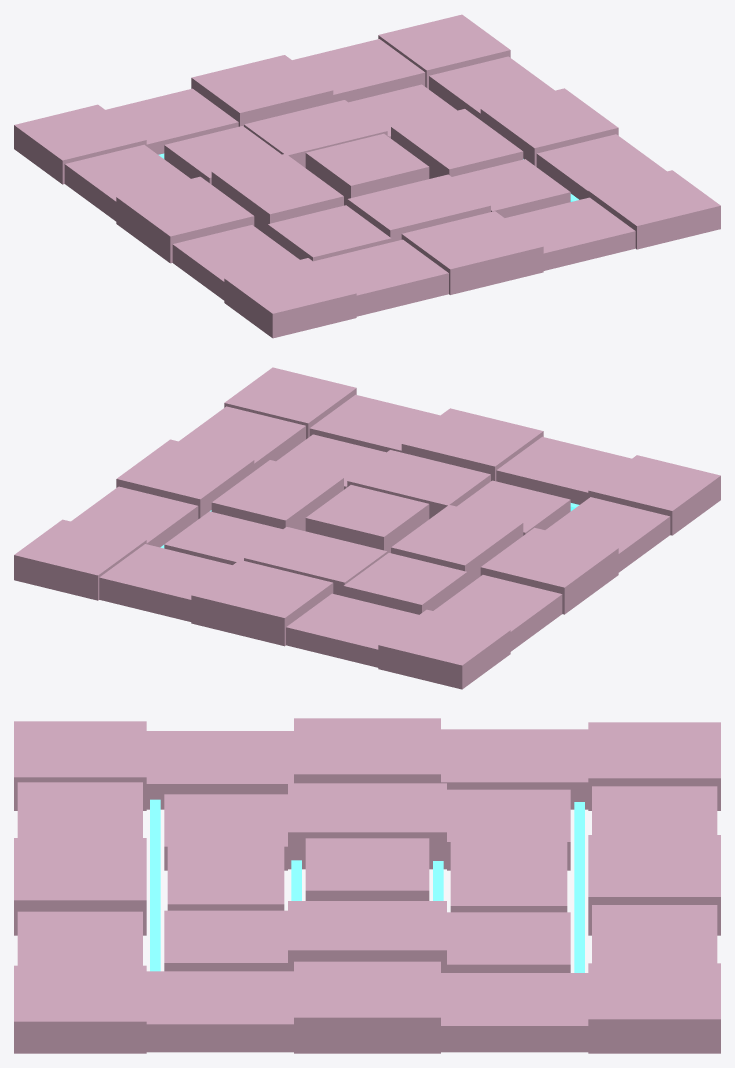
The model's file is fx_pet_tremor_ripple.glb.
The picture shows the model from 3 angles, top to bottom: view 1: azimuth 30°, elevation 25°; view 2: azimuth 150°, elevation 25°; view 3: azimuth 270°, elevation 25°; orthographic projection. The views are drawn at different scales.
Parts seen in each view (by area): view 1: ripple_outer_8, ripple_outer_2, ripple_outer_6, ripple_outer_4, ripple_outer_10, ripple_outer_1, ripple_inner_3, ripple_outer_14, ripple_inner_7, ripple_outer_12, ripple_outer_3, ripple_inner_1 (+13 smaller); view 2: ripple_outer_10, ripple_outer_12, ripple_outer_6, ripple_outer_16, ripple_outer_9, ripple_outer_14, ripple_outer_8, ripple_inner_7, ripple_outer_11, ripple_inner_3, ripple_outer_2, ripple_block_center (+13 smaller); view 3: ripple_outer_14, ripple_outer_13, ripple_outer_16, ripple_outer_15, ripple_outer_4, ripple_outer_2, ripple_inner_3, ripple_inner_7, ripple_outer_6, ripple_outer_7, ripple_outer_10, ripple_outer_5 (+15 smaller).
Boxes of the visible parts, <box> form: ripple_outer_8: <box>224,258,356,338</box>; ripple_outer_2: <box>401,211,543,294</box>; ripple_outer_6: <box>116,176,254,263</box>; ripple_outer_4: <box>588,170,720,249</box>; ripple_outer_10: <box>191,55,333,126</box>; ripple_outer_1: <box>313,239,448,316</box>; ripple_inner_3: <box>211,153,343,235</box>; ripple_outer_14: <box>480,88,618,166</box>; ripple_inner_7: <box>391,109,523,178</box>; ripple_outer_12: <box>14,104,146,184</box>; ripple_outer_3: <box>505,197,635,270</box>; ripple_inner_1: <box>347,174,490,242</box>; ripple_outer_10: <box>191,560,333,646</box>; ripple_outer_12: <box>378,609,510,689</box>; ripple_outer_6: <box>480,527,618,614</box>; ripple_outer_16: <box>14,519,146,600</box>; ripple_outer_9: <box>99,544,232,621</box>; ripple_outer_14: <box>116,439,254,518</box>; ripple_outer_8: <box>588,455,720,535</box>; ripple_inner_7: <box>211,460,343,531</box>; ripple_outer_11: <box>286,593,418,667</box>; ripple_inner_3: <box>391,505,523,585</box>; ripple_outer_2: <box>401,408,543,481</box>; ripple_block_center: <box>305,485,429,552</box>; ripple_outer_14: <box>294,961,440,1053</box>; ripple_outer_13: <box>146,971,293,1052</box>; ripple_outer_16: <box>588,963,720,1053</box>; ripple_outer_15: <box>441,973,588,1052</box>; ripple_outer_4: <box>14,965,146,1053</box>; ripple_outer_2: <box>14,838,146,935</box>; ripple_inner_3: <box>288,783,446,869</box>; ripple_inner_7: <box>288,901,446,972</box>; ripple_outer_6: <box>294,718,440,783</box>; ripple_outer_7: <box>146,731,293,809</box>; ripple_outer_10: <box>588,835,720,935</box>; ripple_outer_5: <box>441,729,588,809</box>.
Bounding box in the file's own units: 8 × 0.5 × 8.
